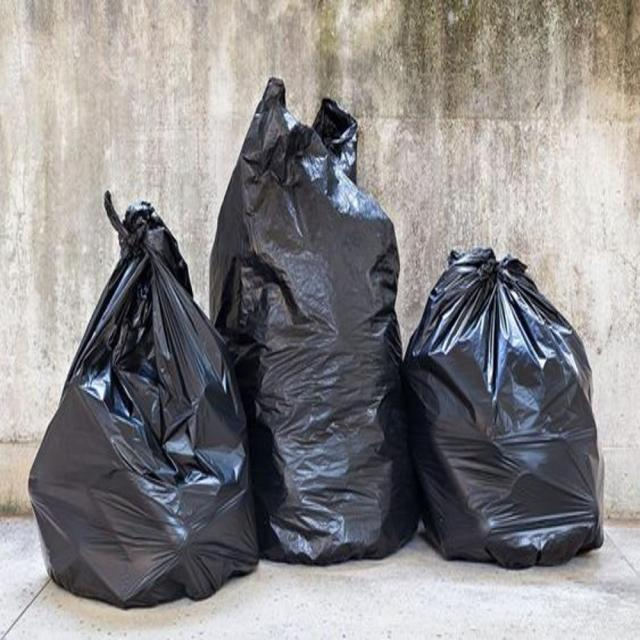KantongPlastik: (26, 188, 260, 609), (207, 86, 408, 554), (421, 249, 608, 564)
